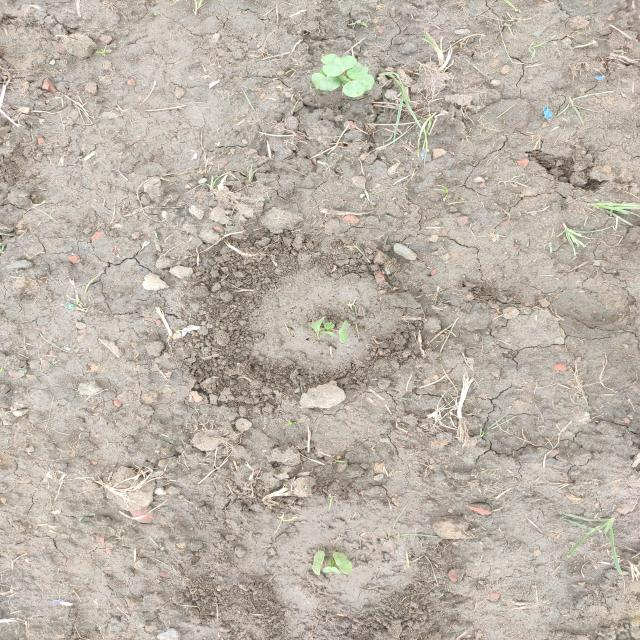seedling_s4: (323, 55, 357, 77), (343, 74, 375, 97), (312, 73, 341, 91), (333, 552, 352, 574), (346, 63, 370, 80), (312, 551, 325, 576), (310, 317, 325, 338), (338, 320, 348, 343), (320, 54, 338, 64), (323, 566, 340, 574), (319, 331, 335, 338), (340, 75, 351, 84), (324, 322, 335, 330)
